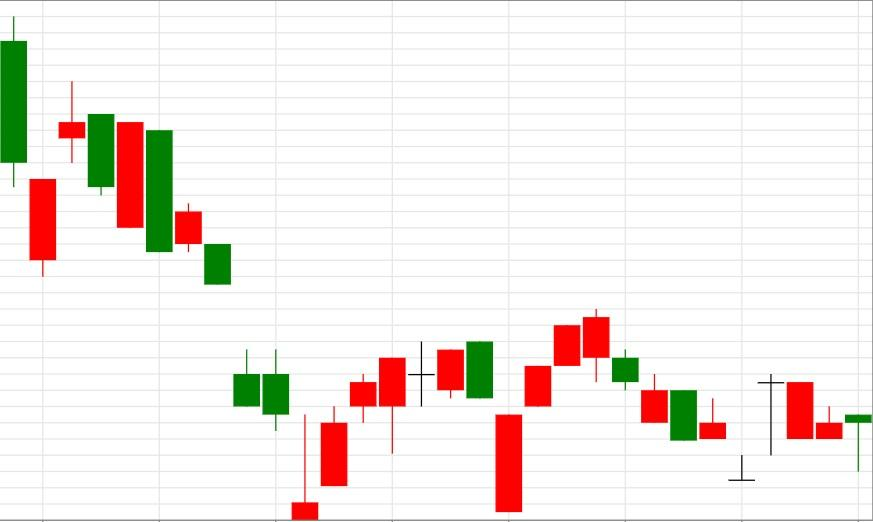inverse_hammer_rise: (58, 81, 318, 521)
three_white_soldiers_rise: (437, 325, 582, 513)
